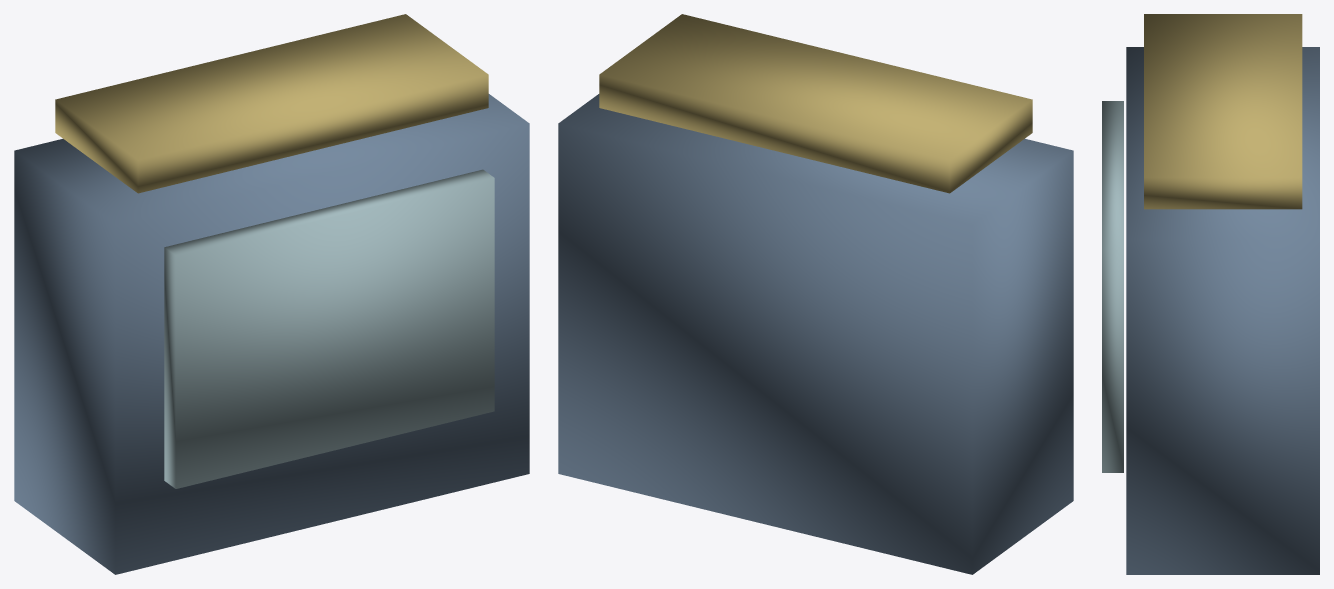
File: lottery_counter_display.glb
The picture shows the model from 3 angles, left to right: view 1: azimuth 30°, elevation 25°; view 2: azimuth 150°, elevation 25°; view 3: azimuth 270°, elevation 25°; orthographic projection. The views are drawn at different scales.
Parts seen in each view (by area): view 1: world; view 2: world; view 3: world.
Boxes of the visible parts, x1,y1,x2,y2 form: world: (14, 14, 529, 574); world: (558, 14, 1073, 574); world: (1102, 14, 1319, 574).
Bounding box in the file's own units: 0.52 × 0.48 × 0.2475.
